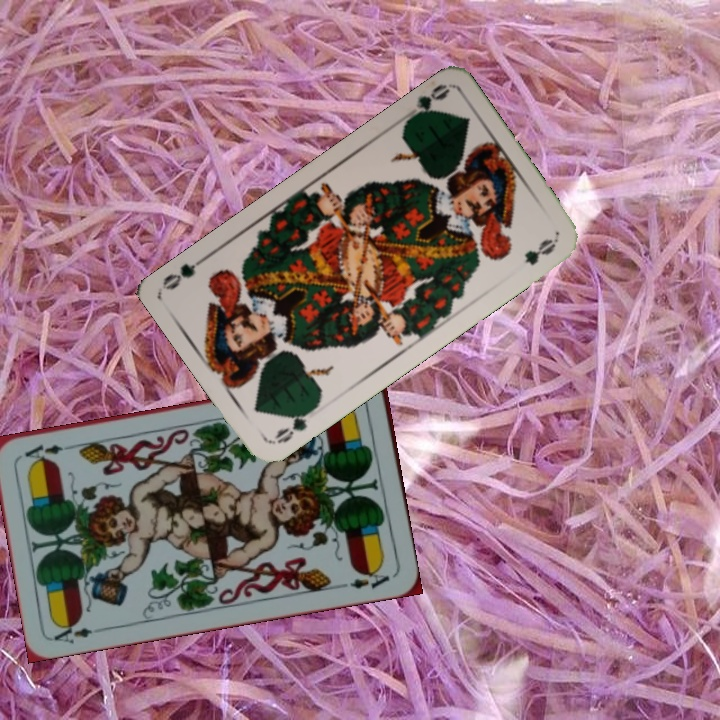EA: (49, 618, 108, 647)
GO: (401, 79, 451, 127), (270, 403, 319, 447)
